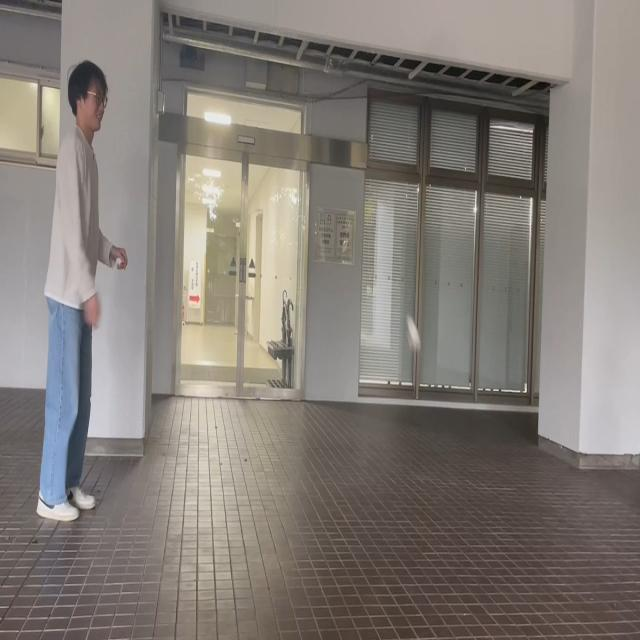paper: (406, 315, 421, 354), (114, 259, 122, 273)
